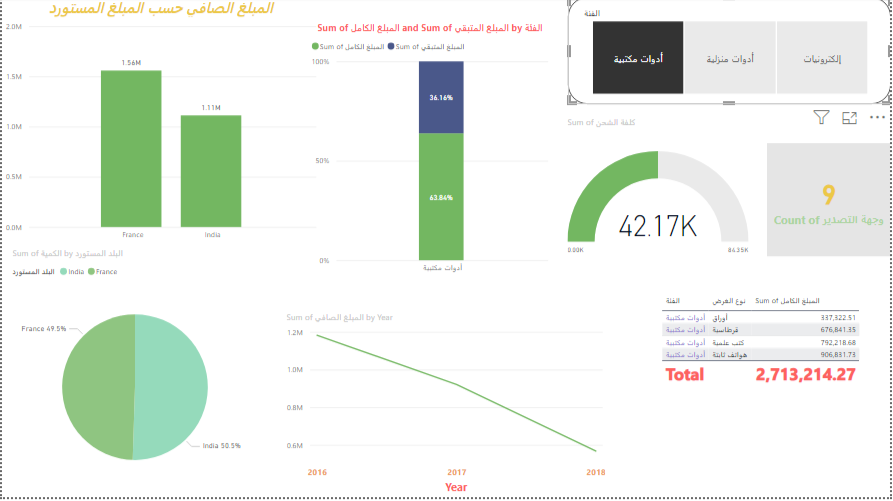

The page's visual inventory and layout, read from the dashboard file:
{"tool":"powerbi","page":{"name":"Page 1","canvas":[1280,720],"ordinal":0},"visuals":[{"type":"columnChart","title":"المبلغ الصافي حسب المبلغ المستورد","fields":{"Category":["Table1.البلد المستورد"],"Y":["Sum(Table1.المبلغ الصافي)"]},"box":[0,0,457.9,360],"z":0},{"type":"pieChart","fields":{"Category":["Table1.البلد المستورد"],"Y":["Sum(Table1.الكمية)"]},"box":[10.1,360,362.9,360],"z":1000},{"type":"lineChart","fields":{"Y":["Sum(Table1.المبلغ الصافي)"],"Category":["Table1.تاريخ الاستيراد.Variation.Date Hierarchy.Year","Table1.تاريخ الاستيراد.Variation.Date Hierarchy.Quarter","Table1.تاريخ الاستيراد.Variation.Date Hierarchy.Month","Table1.تاريخ الاستيراد.Variation.Date Hierarchy.Day"]},"box":[404.6,452.2,469.4,267.8],"z":2000},{"type":"hundredPercentStackedColumnChart","fields":{"Y":["Sum(Table1.المبلغ الكامل)","Sum(Table1.المبلغ المتبقي)"],"Category":["Table1.الفئة"]},"box":[440.6,34.6,351.4,373],"z":3000},{"type":"tableEx","fields":{"Values":["Table1.الفئة","Table1.نوع الغرض","Sum(Table1.المبلغ الكامل)"]},"box":[944.6,421.9,335.5,298.1],"z":4000},{"type":"card","fields":{"Values":["Count(Table1.وجهة التصدير)"]},"box":[1101.6,210.2,178.6,162.7],"z":5000},{"type":"slicer","fields":{"Values":["Table1.الفئة"]},"box":[815,0,465.1,154.1],"z":6000},{"type":"gauge","fields":{"Y":["Sum(Table1.كلفة الشحن)"]},"box":[809.3,171.4,270.7,236.2],"z":7000}]}

Visuals, with their boxes in screenshot pixels (x1, y1, x2, y2), scaled from the page's 1280x720 canvas onto the 893x501 screenshot:
"المبلغ الصافي حسب المبلغ المستورد" columnChart: {"left": 0, "top": 0, "right": 319, "bottom": 250}
pieChart - Table1.البلد المستورد x Sum(Table1.الكمية): {"left": 7, "top": 250, "right": 260, "bottom": 500}
lineChart - Sum(Table1.المبلغ الصافي) x Table1.تاريخ الاستيراد.Variation.Date Hierarchy.Year: {"left": 282, "top": 315, "right": 610, "bottom": 500}
hundredPercentStackedColumnChart - Sum(Table1.المبلغ الكامل) x Sum(Table1.المبلغ المتبقي): {"left": 307, "top": 24, "right": 553, "bottom": 284}
tableEx - Table1.الفئة x Table1.نوع الغرض: {"left": 659, "top": 294, "right": 892, "bottom": 500}
card - Count(Table1.وجهة التصدير): {"left": 769, "top": 146, "right": 892, "bottom": 259}
slicer - Table1.الفئة: {"left": 569, "top": 0, "right": 892, "bottom": 107}
gauge - Sum(Table1.كلفة الشحن): {"left": 565, "top": 119, "right": 753, "bottom": 284}
